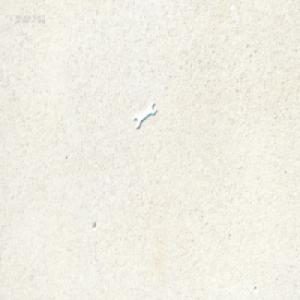Wrench: (133, 101, 155, 129)
